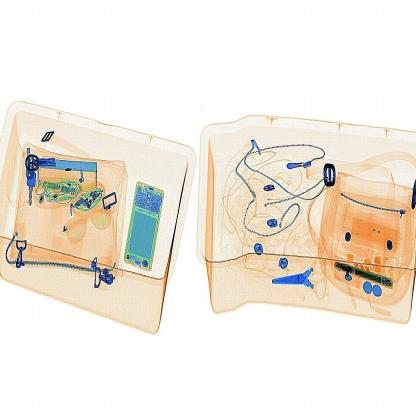gun: (275, 262, 329, 296)
